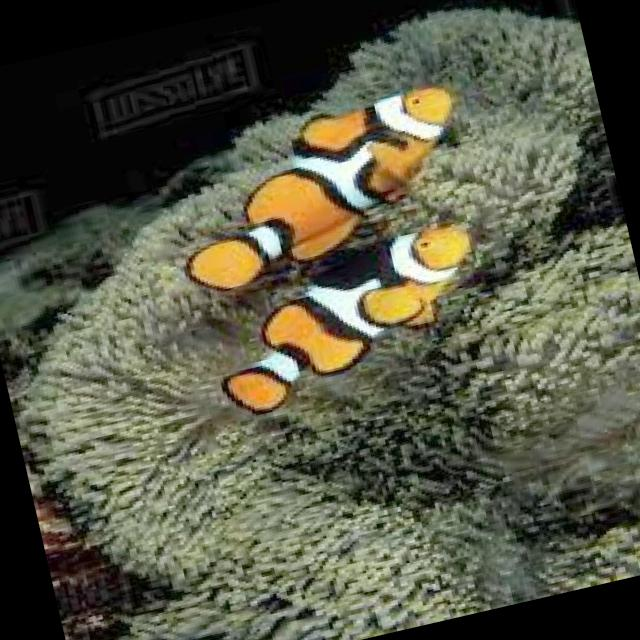ClownFish: (154, 79, 481, 302), (197, 220, 500, 418)
